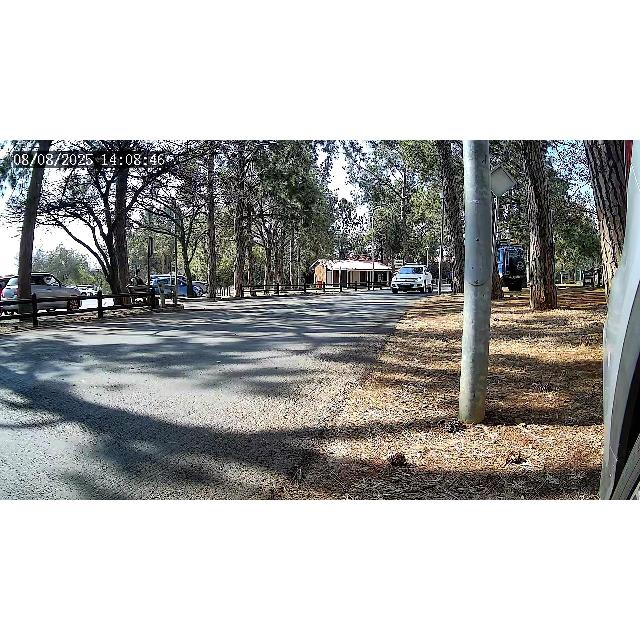car: (0, 271, 82, 314), (391, 266, 434, 294), (150, 277, 204, 299)
